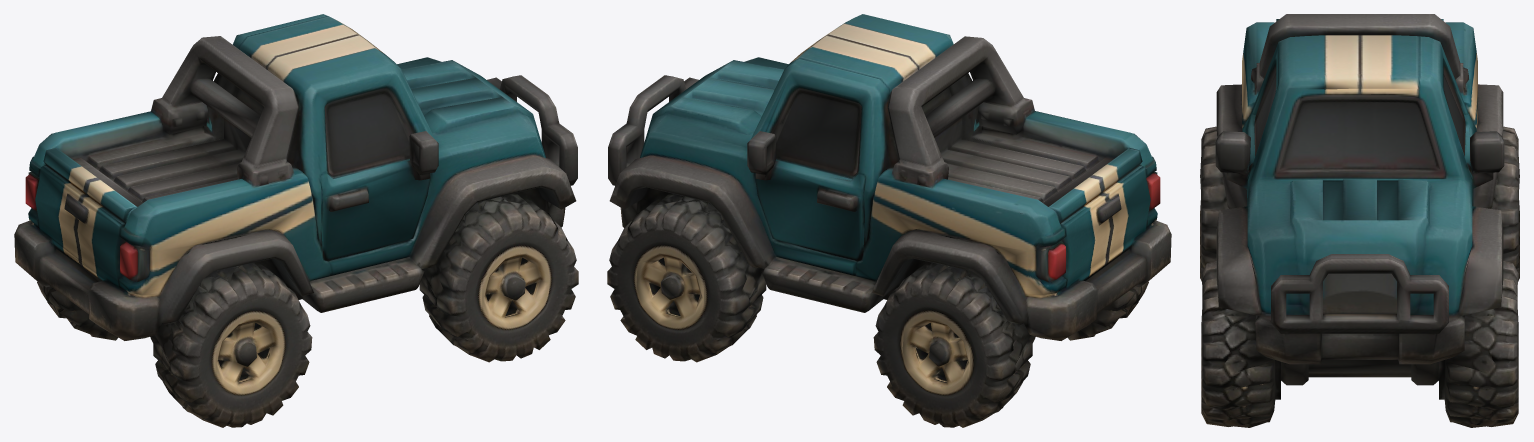
File: LL_HaulerPickup.fbx
3 renders of one model, left to right at view 1: azimuth 30°, elevation 25°; view 2: azimuth 150°, elevation 25°; view 3: azimuth 270°, elevation 25°, orthographic. The views are drawn at different scales.
Visible parts, largest first — view 1: tripo_node_0db99f55; view 2: tripo_node_0db99f55; view 3: tripo_node_0db99f55.
Boxes of the visible parts, box(x1,y1,x2,y2) form: tripo_node_0db99f55: box(14, 14, 578, 427); tripo_node_0db99f55: box(607, 14, 1171, 427); tripo_node_0db99f55: box(1200, 14, 1519, 427).
Size of the model in its own units: 97.84 by 55.33 by 58.01.
1 material, 1 textured.
